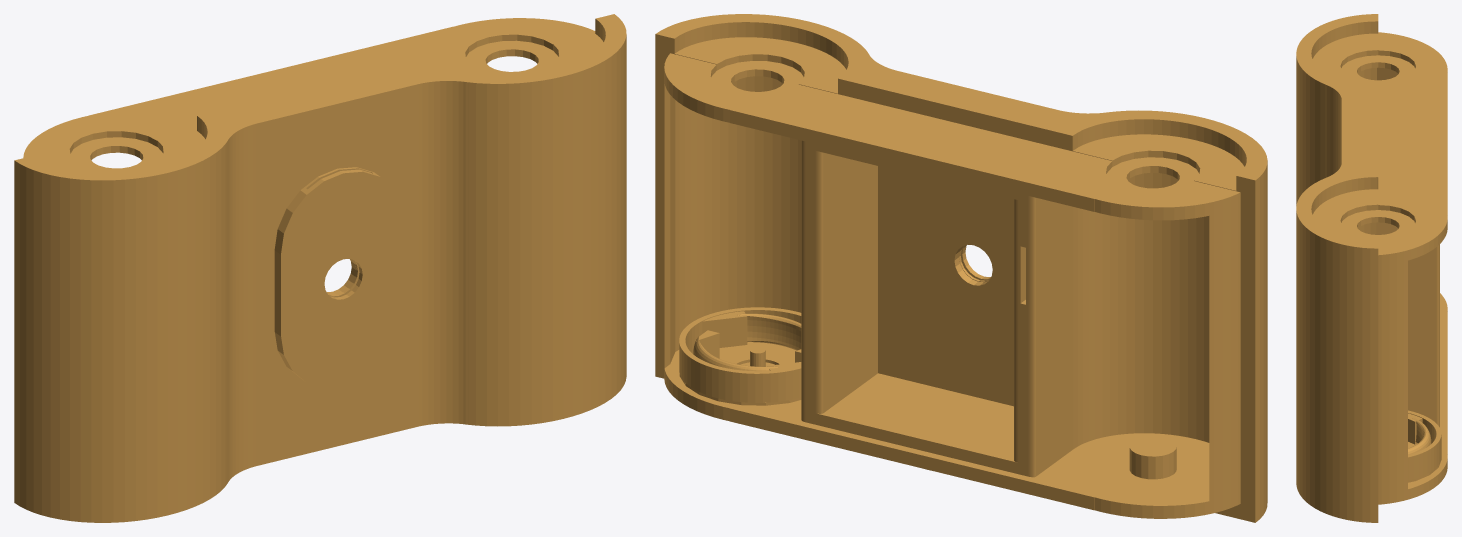
Rendered from front.glb.
3 renders of one model, left to right at view 1: azimuth 30°, elevation 25°; view 2: azimuth 150°, elevation 25°; view 3: azimuth 270°, elevation 25°, orthographic. The views are drawn at different scales.
Parts seen in each view (by area): view 1: Mesh_Mesh_head_geo.001_lambert2SG.001; view 2: Mesh_Mesh_head_geo.001_lambert2SG.001; view 3: Mesh_Mesh_head_geo.001_lambert2SG.001.
Boxes of the visible parts, x1=… form: Mesh_Mesh_head_geo.001_lambert2SG.001: x1=14, y1=14, x2=626, y2=522; Mesh_Mesh_head_geo.001_lambert2SG.001: x1=655, y1=14, x2=1267, y2=522; Mesh_Mesh_head_geo.001_lambert2SG.001: x1=1296, y1=14, x2=1447, y2=522.
Size of the model in its own units: 0.11 by 0.06 by 0.03.
